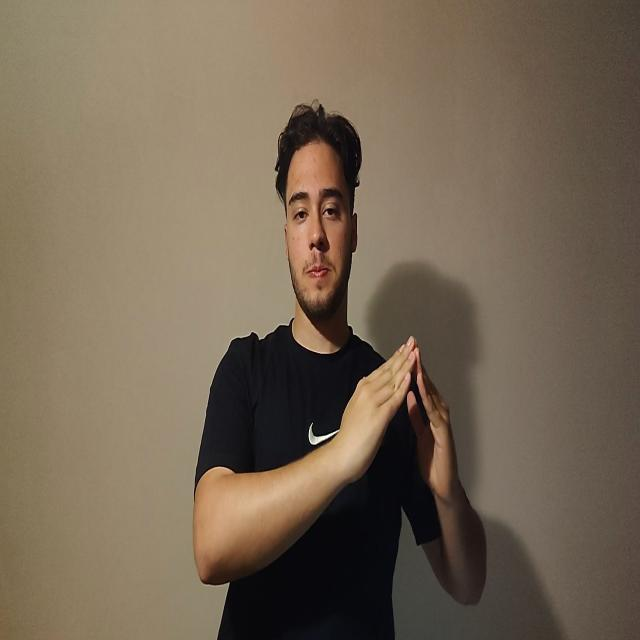house: (338, 336, 458, 507)
